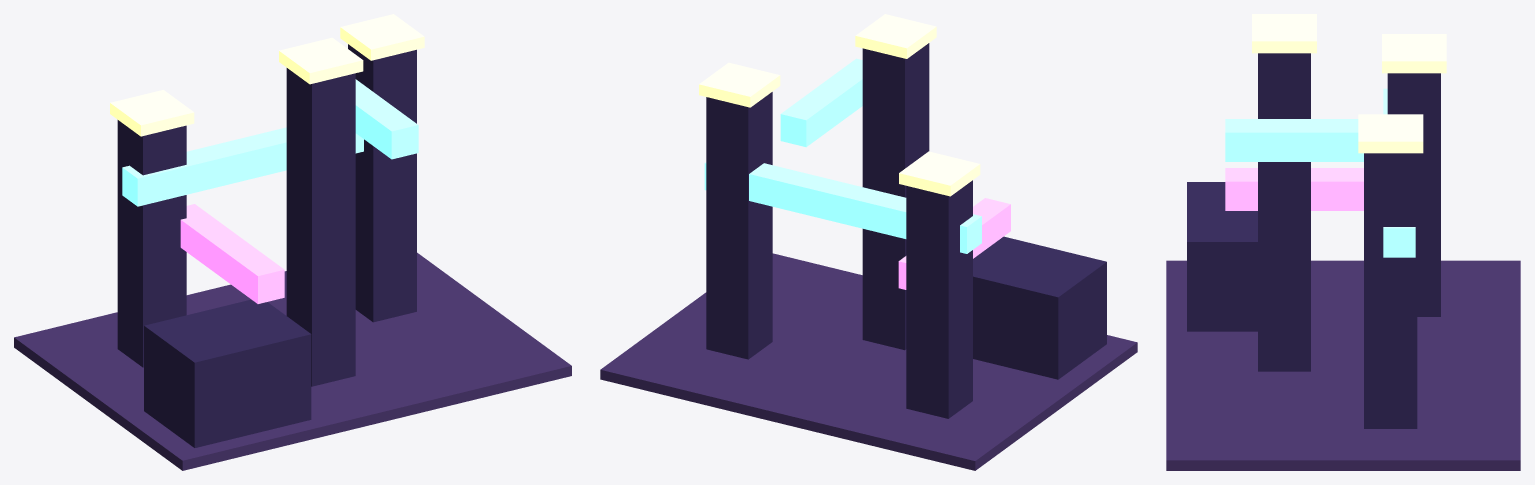
The model's file is 05_service_pipe_cluster.glb.
3 views of the same model, side by side, from view 1: azimuth 30°, elevation 25°; view 2: azimuth 150°, elevation 25°; view 3: azimuth 270°, elevation 25° (orthographic). The views are drawn at different scales.
Visible parts, largest first — view 1: ground_0, service_box_10, pipe_tower_3, pipe_tower_5, pipe_tower_1, pipe_run_7, pipe_run_8, pipe_run_9, pipe_cap_6, pipe_cap_2, pipe_cap_4; view 2: ground_0, pipe_tower_5, service_box_10, pipe_tower_1, pipe_tower_3, pipe_run_7, pipe_run_9, pipe_cap_2, pipe_cap_6, pipe_cap_4, pipe_run_8; view 3: ground_0, pipe_tower_3, pipe_tower_5, service_box_10, pipe_tower_1, pipe_run_9, pipe_run_8, pipe_cap_6, pipe_cap_2, pipe_cap_4, pipe_run_7.
Boxes of the visible parts, left/top/right/bottom form: ground_0: left=14, top=252, right=571, bottom=470; service_box_10: left=144, top=299, right=311, bottom=447; pipe_tower_3: left=286, top=68, right=355, bottom=386; pipe_tower_5: left=348, top=44, right=416, bottom=322; pipe_tower_1: left=117, top=120, right=186, bottom=367; pipe_run_7: left=122, top=127, right=363, bottom=206; pipe_run_8: left=180, top=204, right=284, bottom=303; pipe_run_9: left=355, top=79, right=418, bottom=159; pipe_cap_6: left=340, top=14, right=424, bottom=60; pipe_cap_2: left=110, top=90, right=194, bottom=136; pipe_cap_4: left=279, top=37, right=363, bottom=84; ground_0: left=600, top=253, right=1137, bottom=470; pipe_tower_5: left=706, top=92, right=772, bottom=359; service_box_10: left=973, top=236, right=1106, bottom=379; pipe_tower_1: left=906, top=180, right=972, bottom=418; pipe_tower_3: left=862, top=43, right=929, bottom=350; pipe_run_7: left=704, top=162, right=981, bottom=253; pipe_run_9: left=780, top=58, right=862, bottom=147; pipe_cap_2: left=899, top=151, right=980, bottom=196; pipe_cap_6: left=699, top=62, right=780, bottom=107; pipe_cap_4: left=855, top=14, right=936, bottom=58; pipe_run_8: left=898, top=198, right=1010, bottom=289; ground_0: left=1166, top=260, right=1520, bottom=470; pipe_tower_3: left=1258, top=53, right=1310, bottom=371; pipe_tower_5: left=1364, top=153, right=1417, bottom=428; service_box_10: left=1187, top=182, right=1257, bottom=331; pipe_tower_1: left=1387, top=73, right=1440, bottom=316; pipe_run_9: left=1225, top=119, right=1363, bottom=161; pipe_run_8: left=1225, top=168, right=1363, bottom=210; pipe_cap_6: left=1358, top=114, right=1423, bottom=153; pipe_cap_2: left=1382, top=34, right=1446, bottom=73; pipe_cap_4: left=1252, top=14, right=1316, bottom=53; pipe_run_7: left=1383, top=88, right=1415, bottom=257.
Bounding box in the file's own units: 8 × 6.42 × 6.
